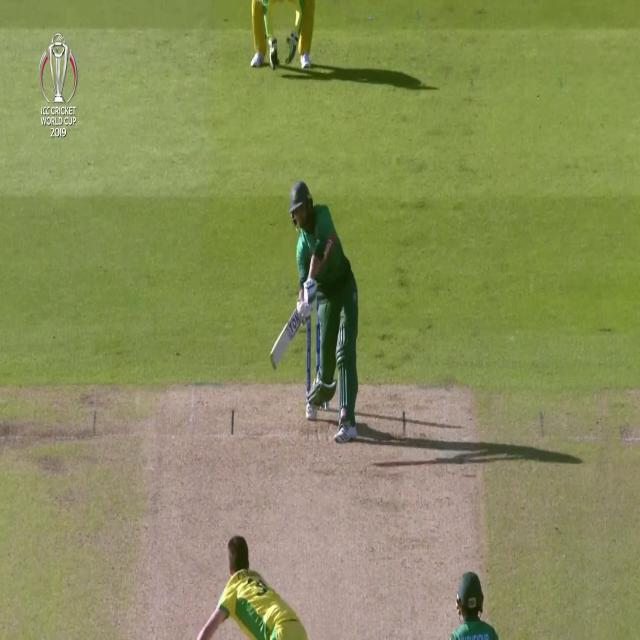ball: (296, 299, 310, 321)
